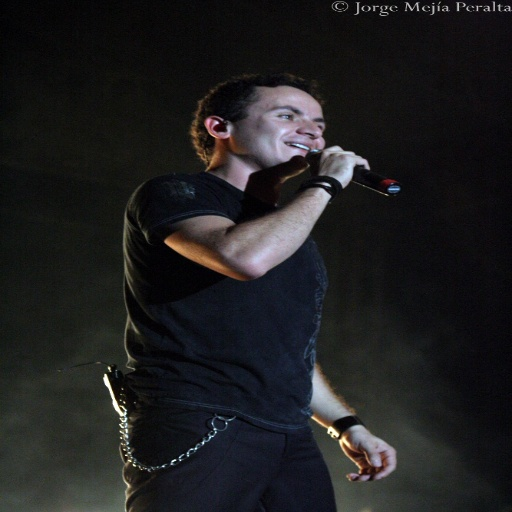hand: (333, 409, 405, 485), (317, 143, 371, 189)
